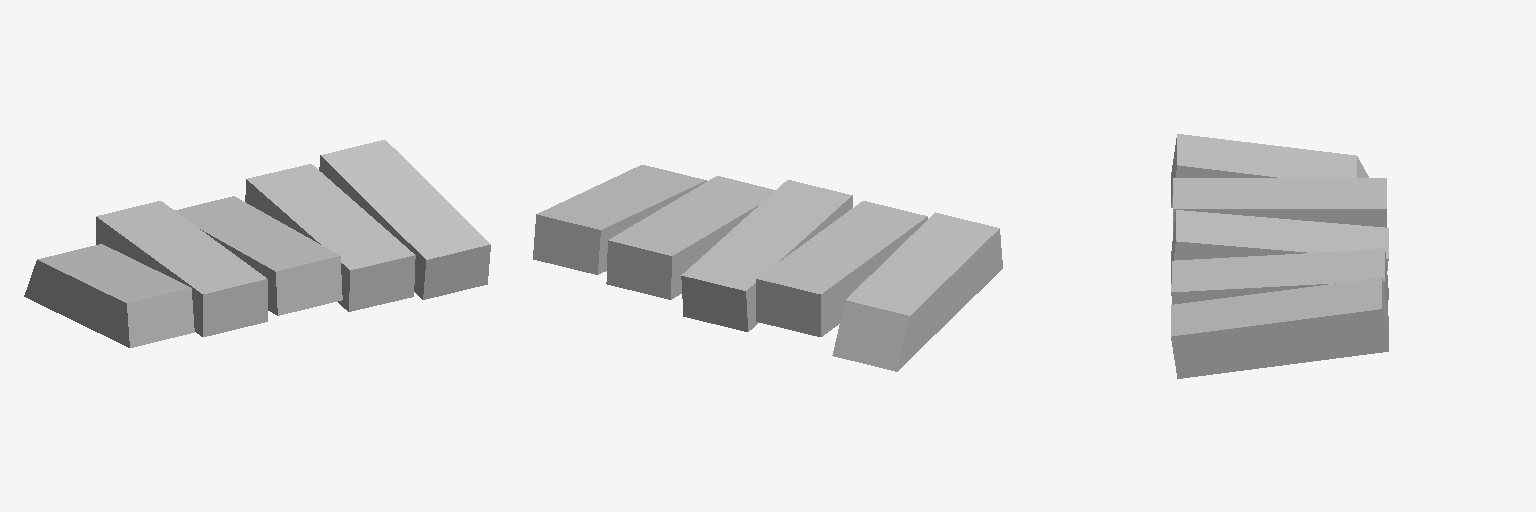
File: example_road.obj
3 renders of one model, left to right at view 1: azimuth 30°, elevation 25°; view 2: azimuth 150°, elevation 25°; view 3: azimuth 270°, elevation 25°, orthographic.
Visible parts, largest first — view 1: example_road:example_road:pCube12; view 2: example_road:example_road:pCube12; view 3: example_road:example_road:pCube12.
Boxes of the visible parts, box(x1,y1,x2,y2) form: example_road:example_road:pCube12: box(24, 140, 490, 347); example_road:example_road:pCube12: box(533, 165, 1002, 371); example_road:example_road:pCube12: box(1171, 134, 1388, 378).
Bounding box in the file's own units: 19.5 × 3.62 × 10.21.